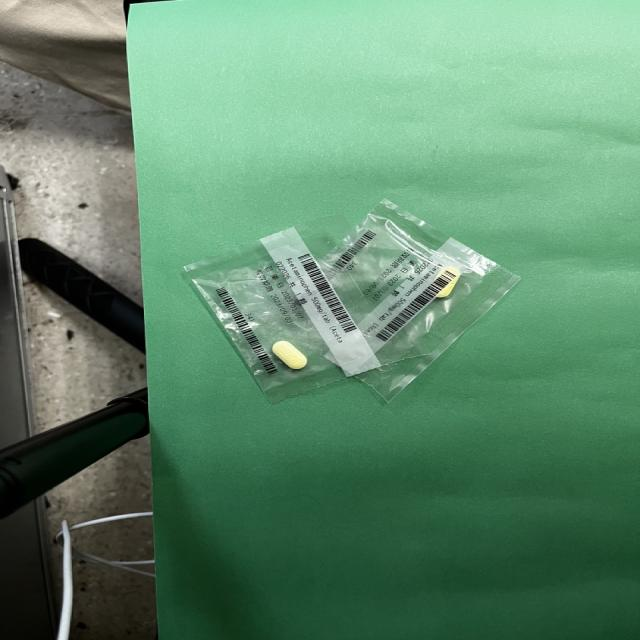Other Objects: (184, 200, 519, 401)
